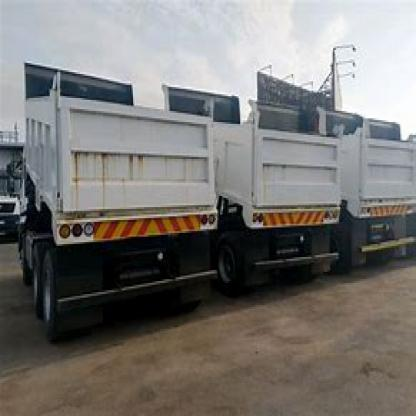dump_truck: (10, 50, 212, 314), (212, 89, 340, 300), (344, 94, 414, 268)
